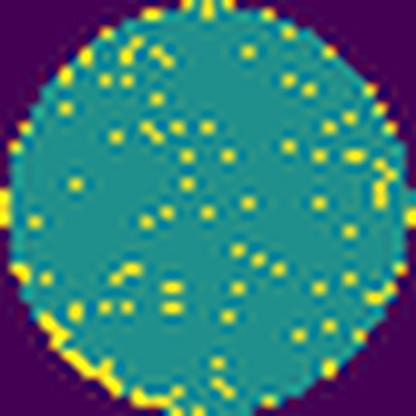Edge-Loc: (36, 314, 126, 404), (133, 384, 186, 416)
